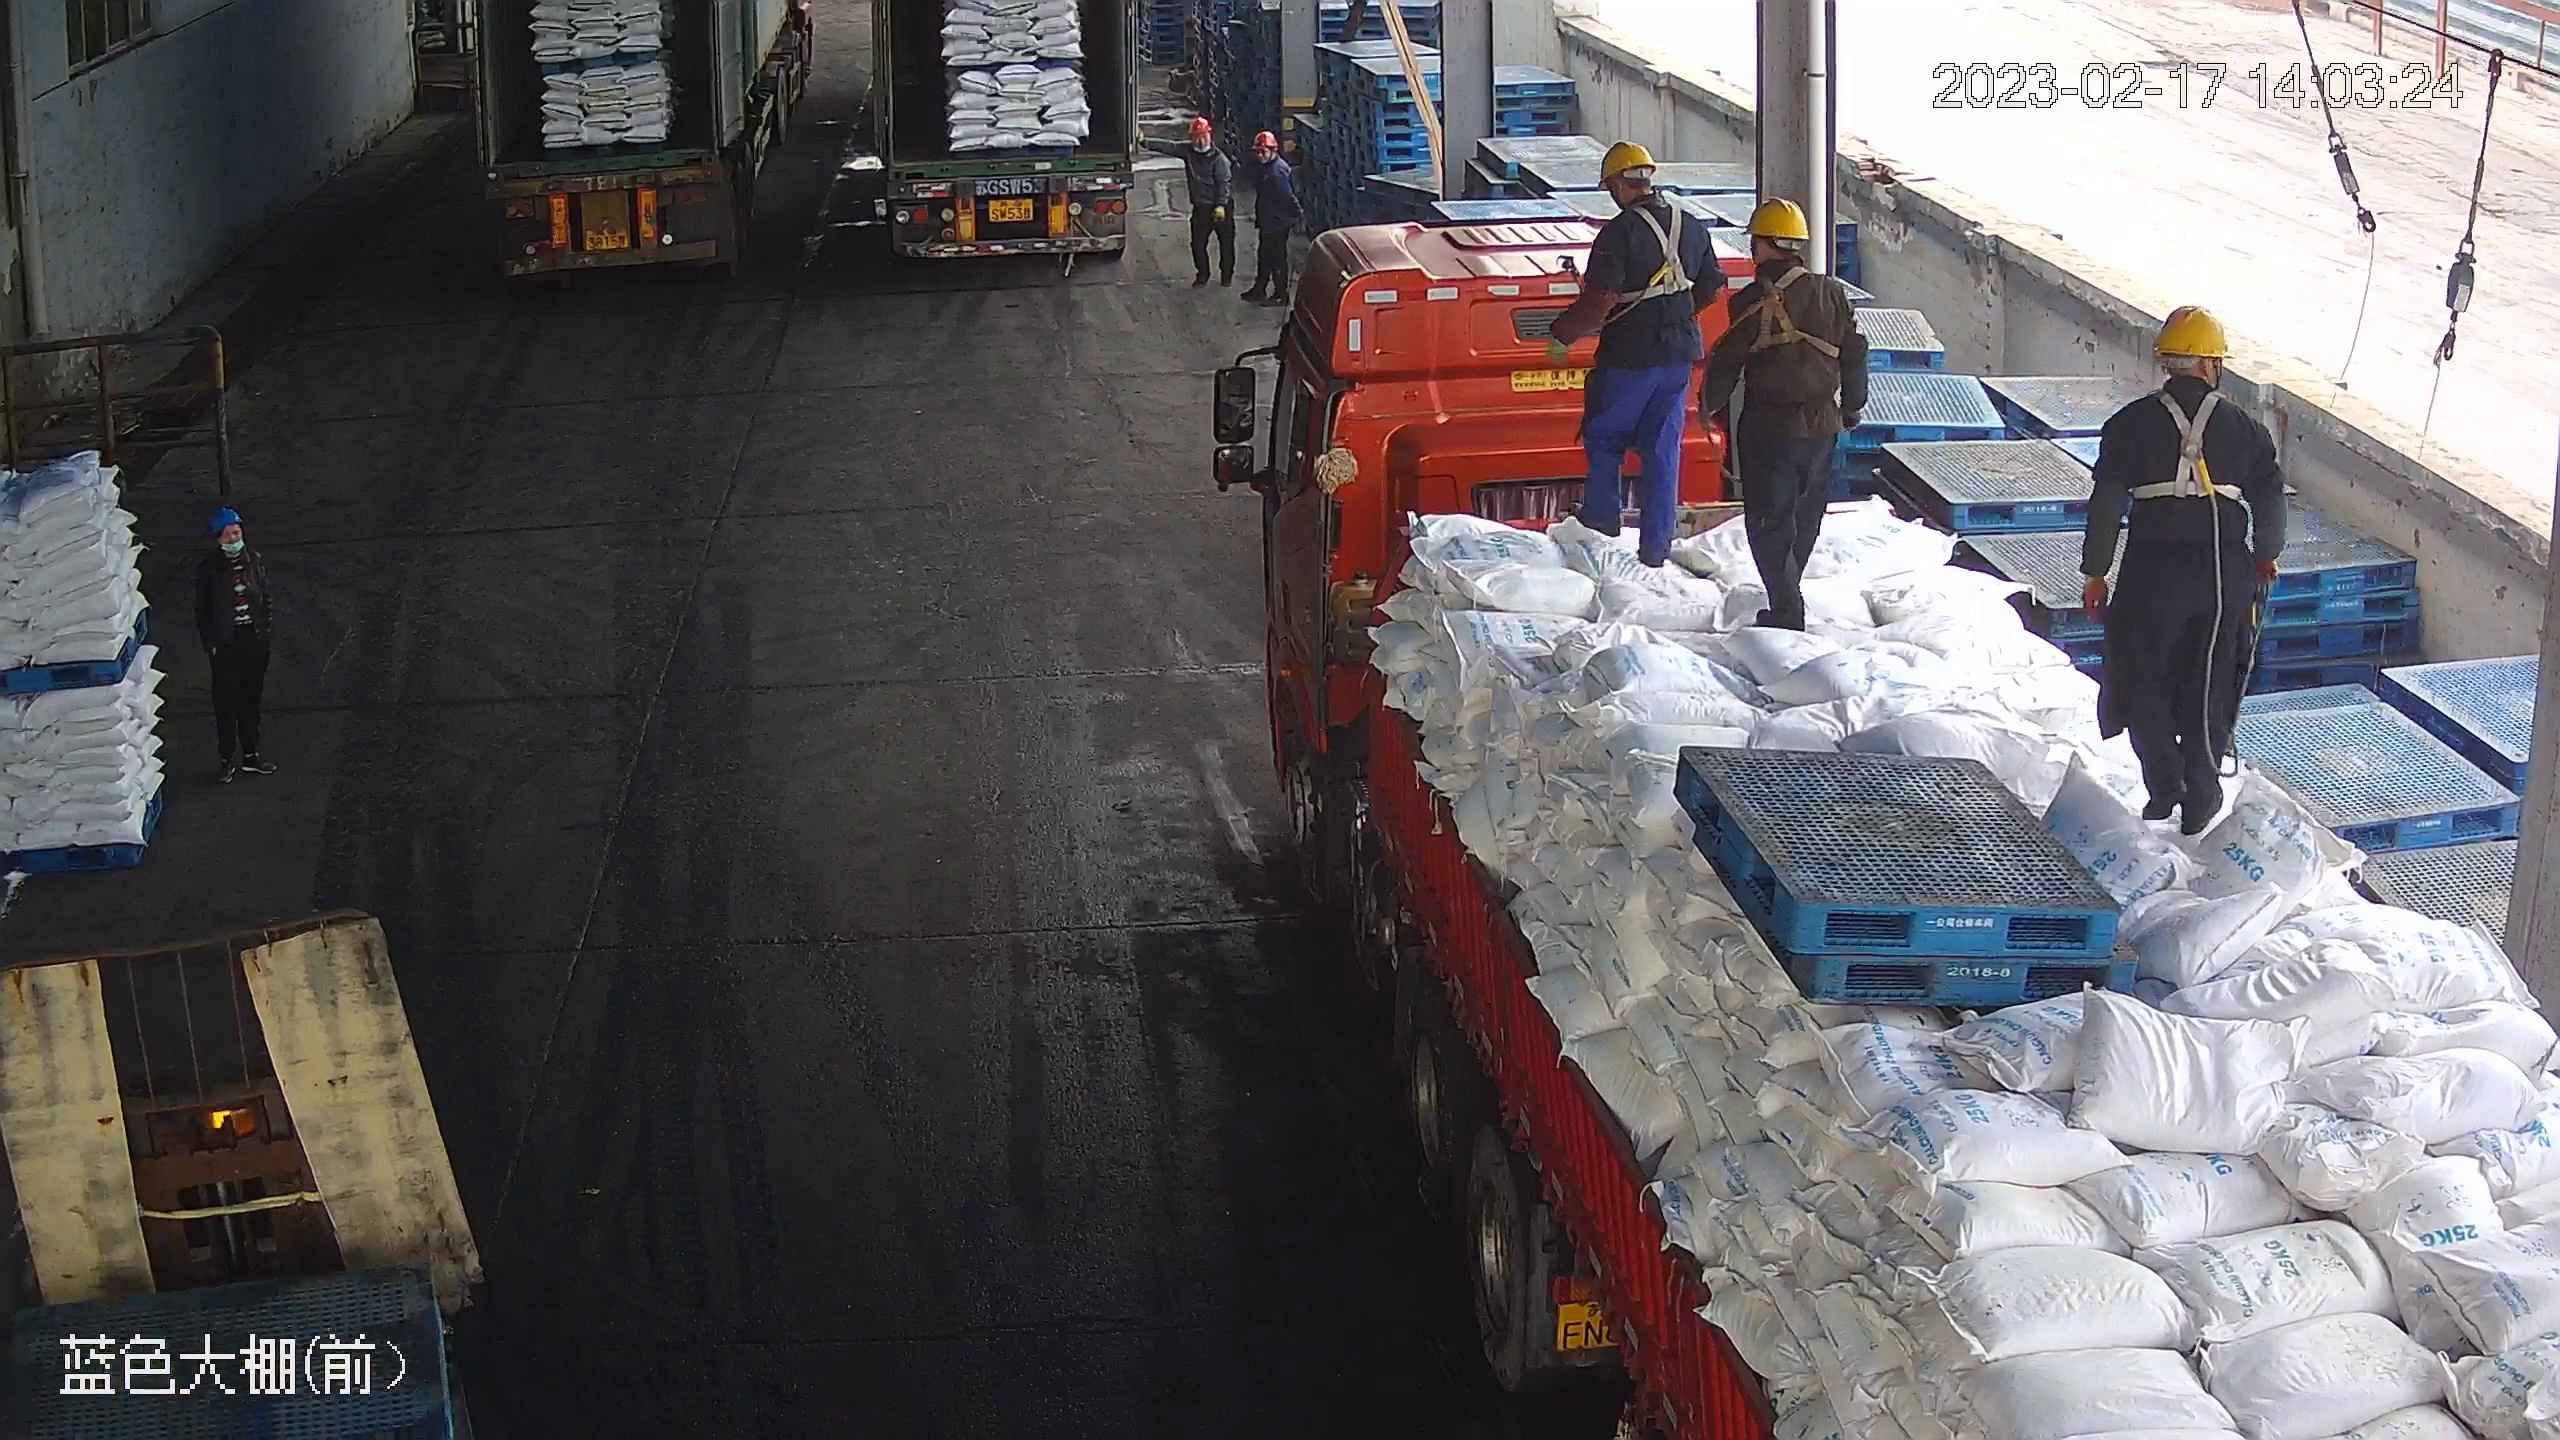belt: (2130, 385, 2251, 509), (1742, 265, 1849, 362), (1607, 202, 1699, 309)
head: (2095, 305, 2271, 454), (1721, 197, 1853, 325), (1584, 138, 1707, 258), (198, 507, 267, 593), (1244, 128, 1296, 187), (1178, 115, 1223, 168)
helmet: (863, 1, 1138, 269), (2151, 304, 2231, 360), (1741, 197, 1807, 246), (1596, 140, 1659, 184), (212, 509, 245, 538), (1251, 131, 1280, 151), (1184, 114, 1210, 134)
people: (2078, 304, 2287, 839), (1534, 136, 1715, 563), (1702, 202, 1871, 630), (193, 507, 282, 784), (1173, 113, 1230, 292), (1241, 128, 1297, 304)
truck: (1220, 191, 2555, 1437), (476, 1, 822, 284)
